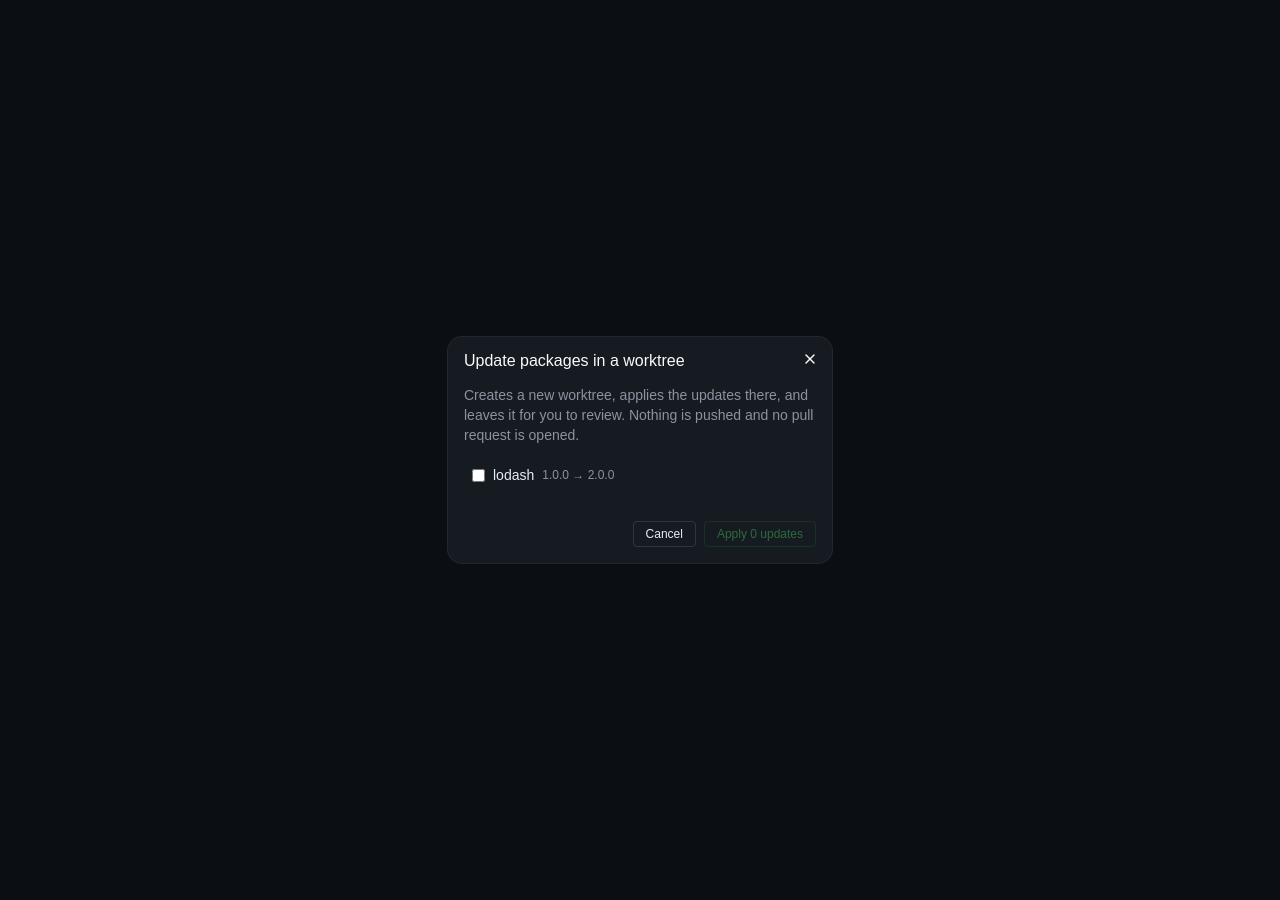
Test: UpdateWizard › reports the resolved constraint, not the requested version
Click the checkbox at (478, 475), box [472,468,485,482]
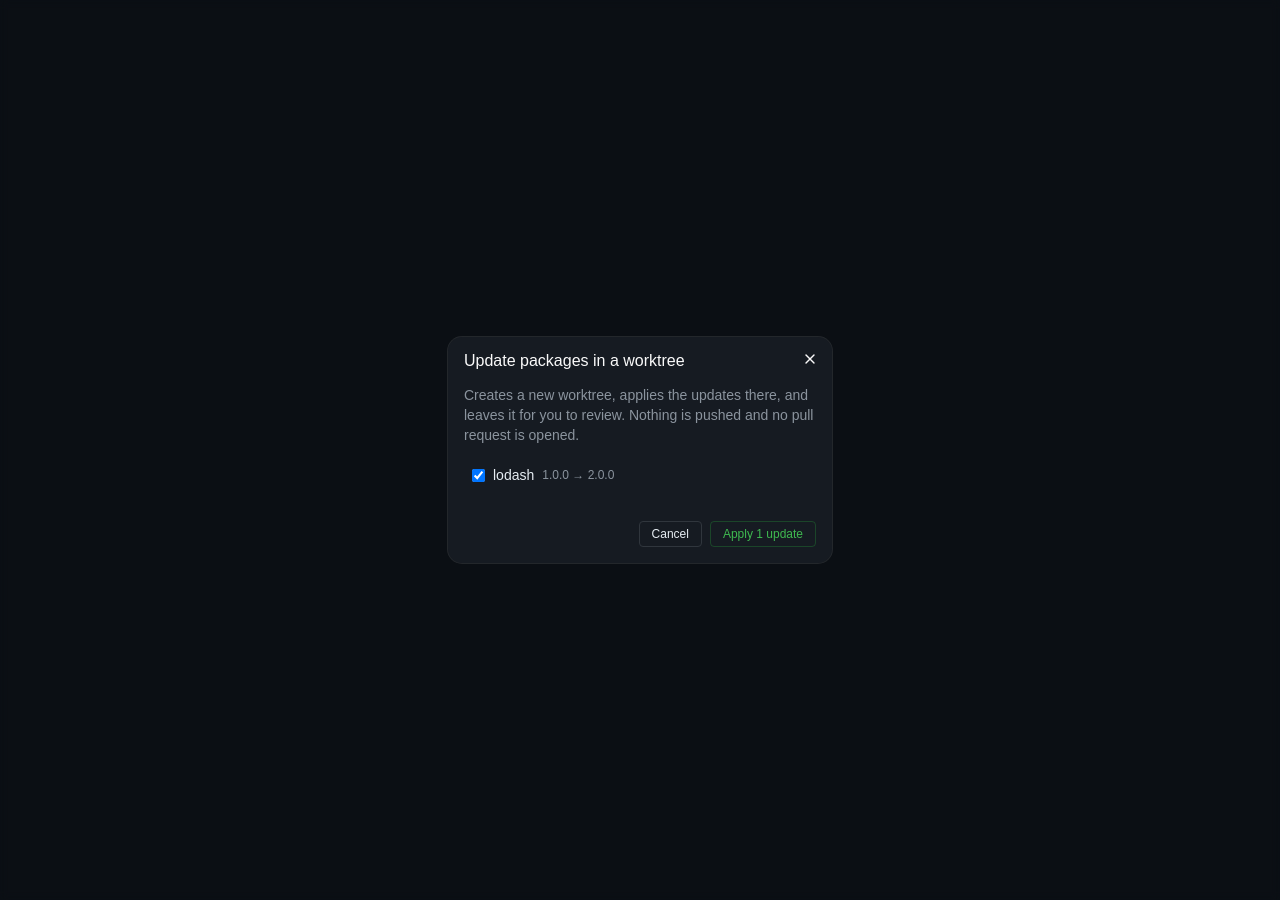
Click the button "Apply 1 update" at (763, 534), box [710,521,816,547]
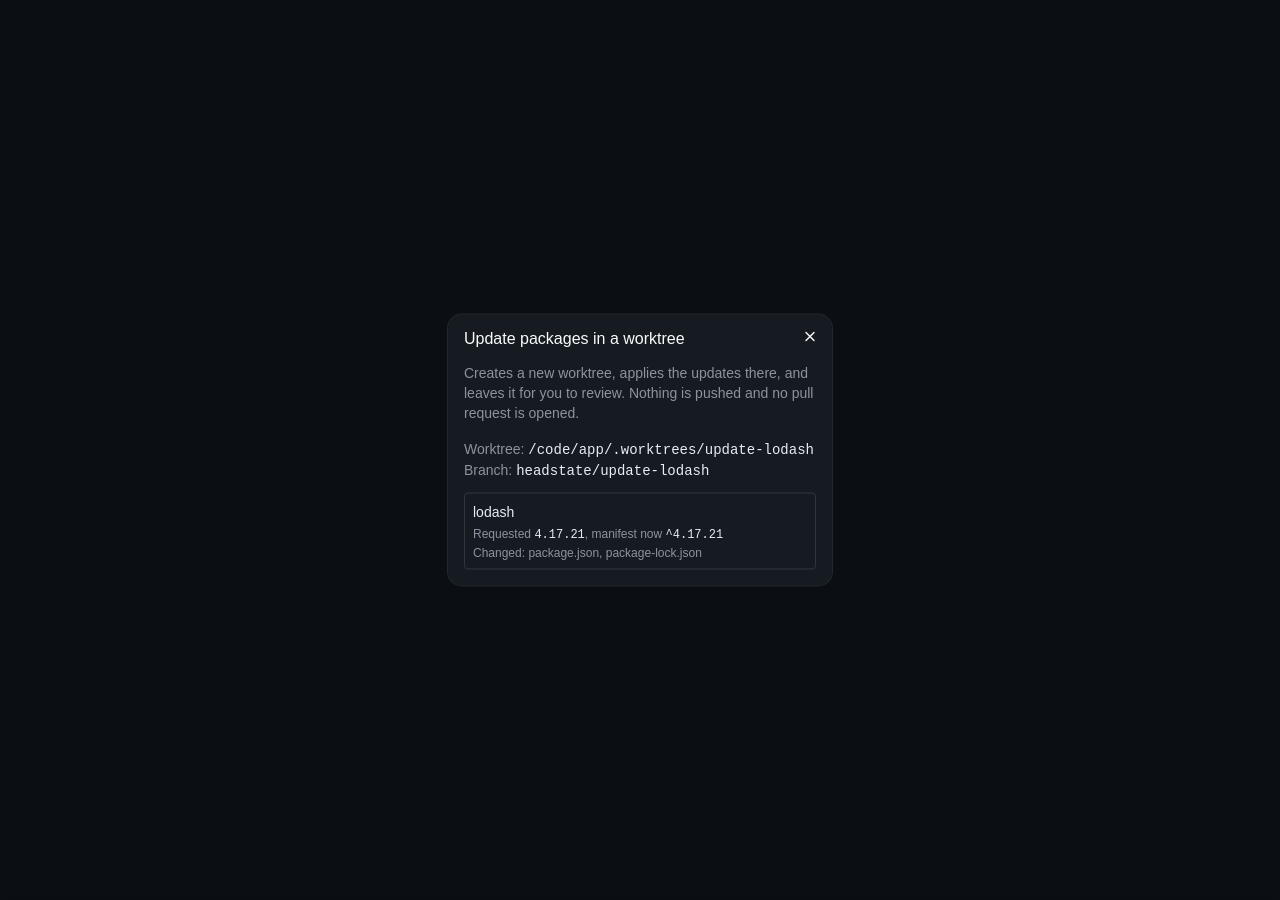
Check: the text "^4.17.21" is shown, box [666,528,723,542]
Check: the text "4.17.21" is shown, box [534,528,585,542]
